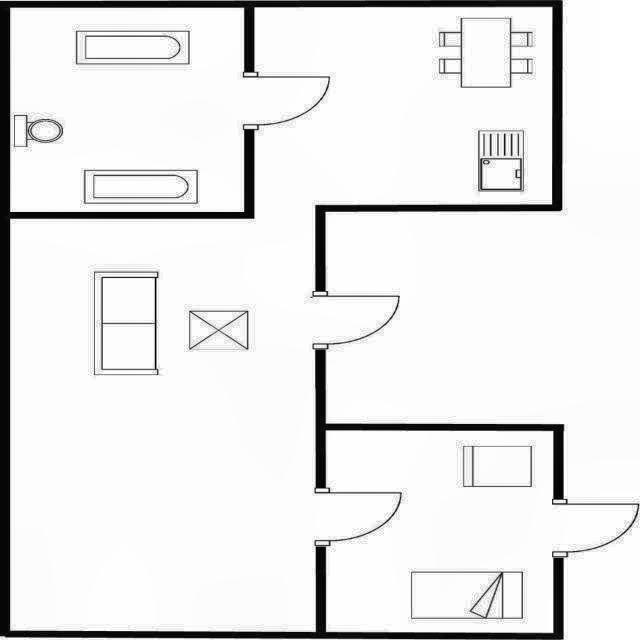room: (10, 7, 552, 632), (11, 8, 244, 212), (326, 431, 553, 632)
